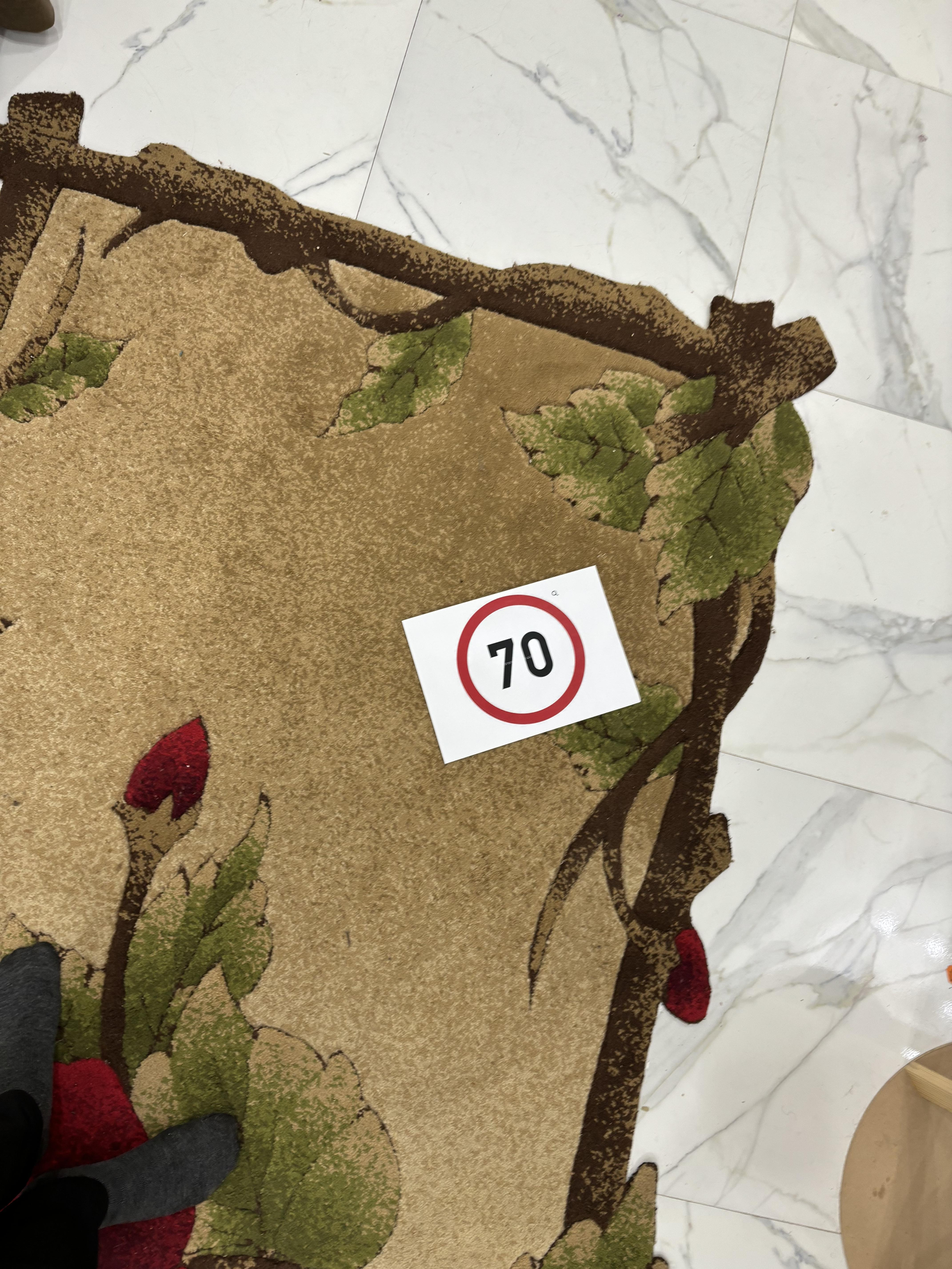70-Speed: (458, 594, 592, 725)
